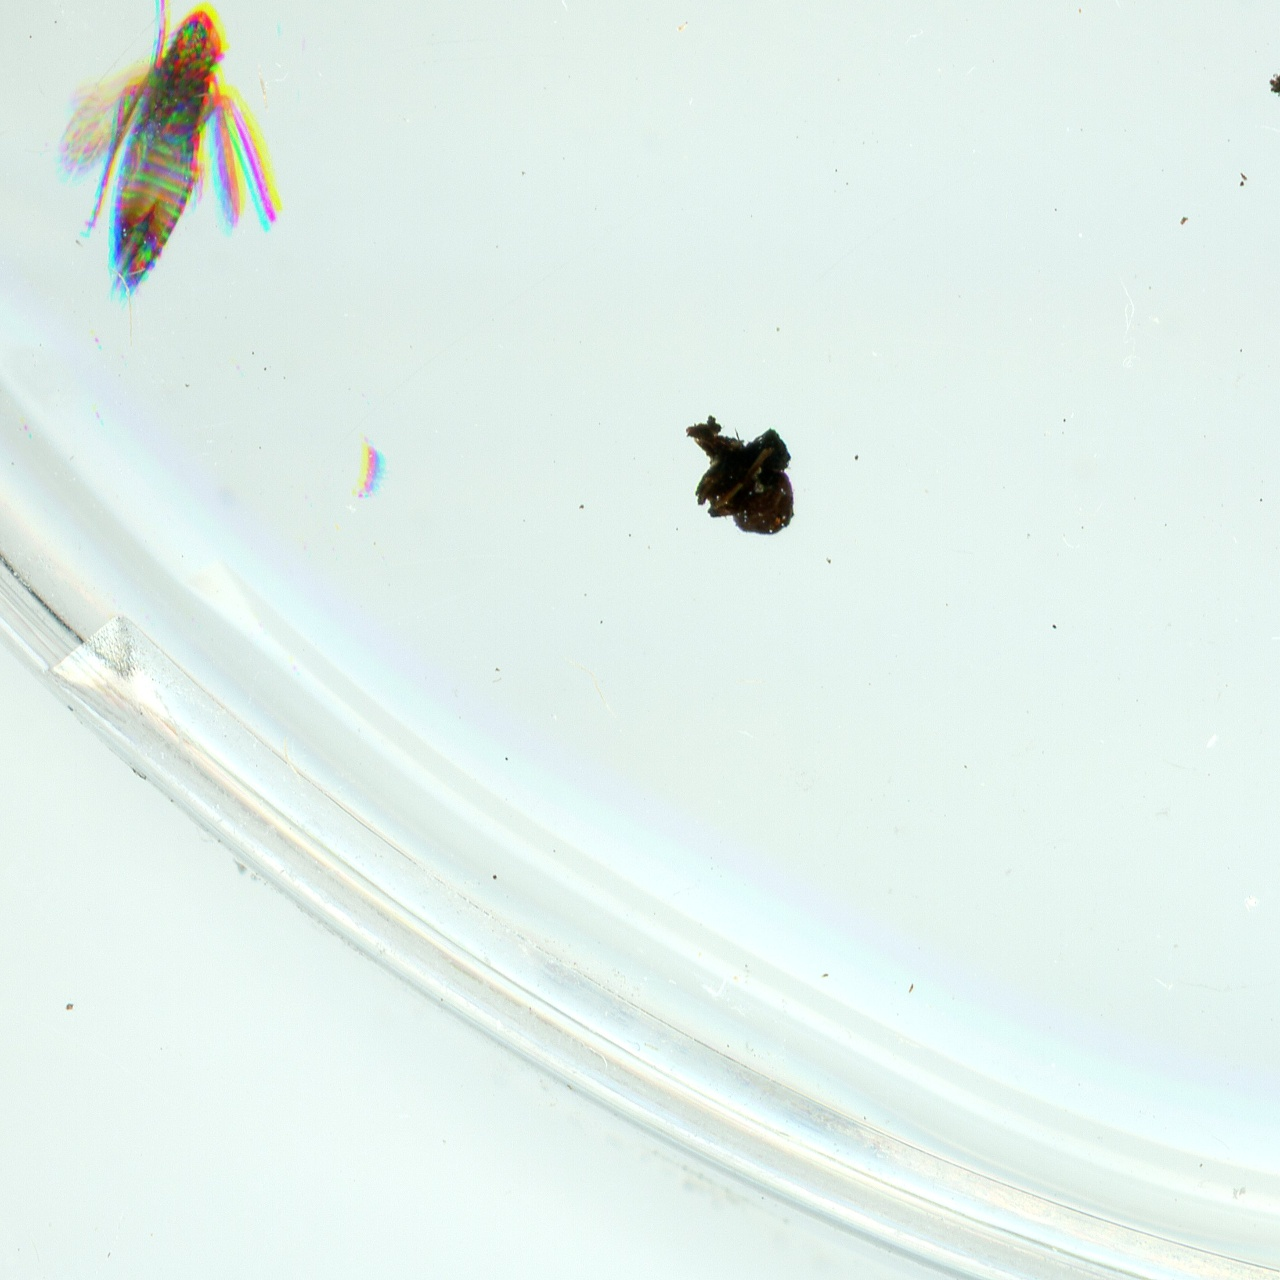arthropod: (44, 0, 293, 308), (355, 427, 390, 509)
